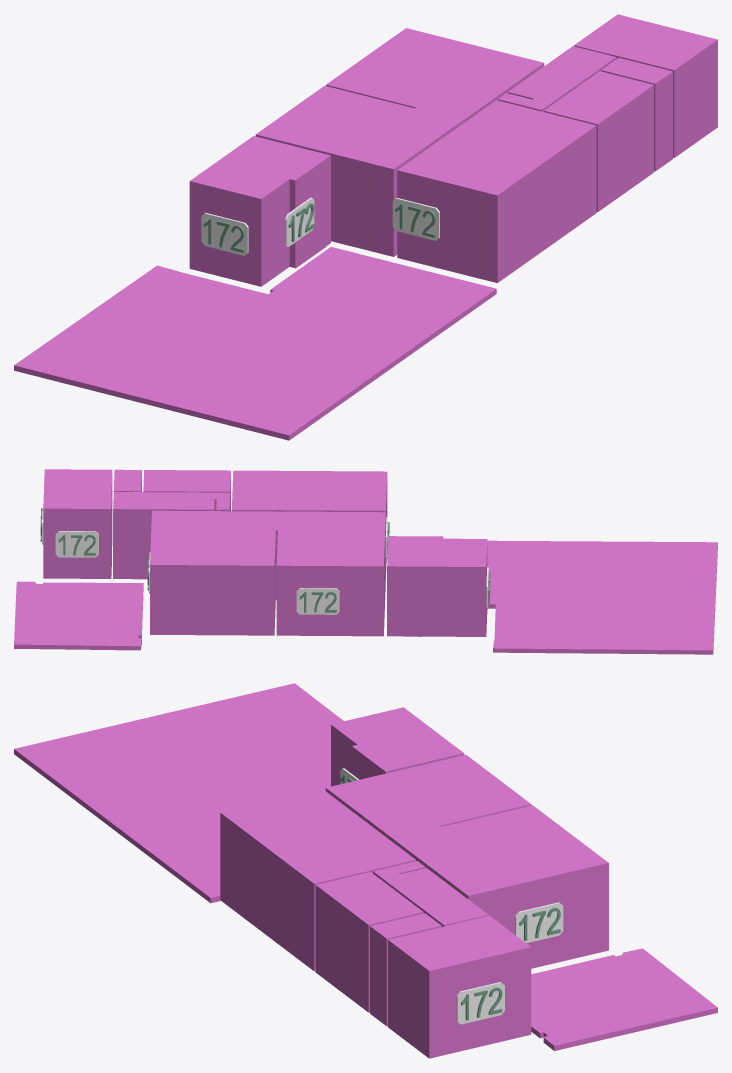
The picture shows the model from 3 angles, top to bottom: view 1: azimuth 30°, elevation 25°; view 2: azimuth 150°, elevation 25°; view 3: azimuth 270°, elevation 25°; orthographic projection. The views are drawn at different scales.
Parts seen in each view (by area): view 1: g_9, g_2, g_1, g_7, g_0, g_3, g_4, g_6, g_5, g_17, g_13, g_33; view 2: g_9, g_0, g_1, g_7, g_8, g_3, g_2, g_6, g_4, g_29, g_25, g_5; view 3: g_9, g_0, g_2, g_3, g_8, g_1, g_4, g_7, g_6, g_5, g_37, g_21.
Part boxes in pixels (bbox=[...]): g_9: bbox=[14, 247, 496, 440]; g_2: bbox=[397, 100, 596, 282]; g_1: bbox=[255, 85, 464, 256]; g_7: bbox=[189, 136, 330, 286]; g_0: bbox=[326, 28, 544, 122]; g_3: bbox=[574, 14, 717, 157]; g_4: bbox=[544, 71, 653, 211]; g_6: bbox=[498, 46, 616, 111]; g_5: bbox=[601, 58, 672, 171]; g_17: bbox=[201, 212, 248, 255]; g_13: bbox=[392, 198, 439, 240]; g_33: bbox=[285, 197, 314, 246]; g_9: bbox=[487, 540, 717, 654]; g_0: bbox=[150, 510, 276, 635]; g_1: bbox=[275, 511, 385, 636]; g_7: bbox=[387, 536, 487, 636]; g_8: bbox=[14, 581, 143, 650]; g_3: bbox=[43, 469, 112, 578]; g_2: bbox=[231, 470, 387, 580]; g_6: bbox=[113, 492, 230, 579]; g_4: bbox=[143, 470, 230, 511]; g_29: bbox=[55, 531, 98, 557]; g_25: bbox=[296, 588, 339, 614]; g_5: bbox=[113, 469, 141, 491]; g_9: bbox=[14, 683, 343, 903]; g_0: bbox=[392, 805, 608, 968]; g_2: bbox=[220, 788, 415, 971]; g_3: bbox=[388, 915, 531, 1058]; g_8: bbox=[531, 948, 717, 1050]; g_1: bbox=[325, 755, 531, 841]; g_4: bbox=[315, 872, 423, 1012]; g_7: bbox=[331, 707, 464, 786]; g_6: bbox=[373, 861, 488, 926]; g_5: bbox=[370, 913, 441, 1026]; g_37: bbox=[456, 982, 504, 1024]; g_21: bbox=[515, 902, 563, 943].
Size of the model in its own units: 22.86 by 2.65 by 18.09.
